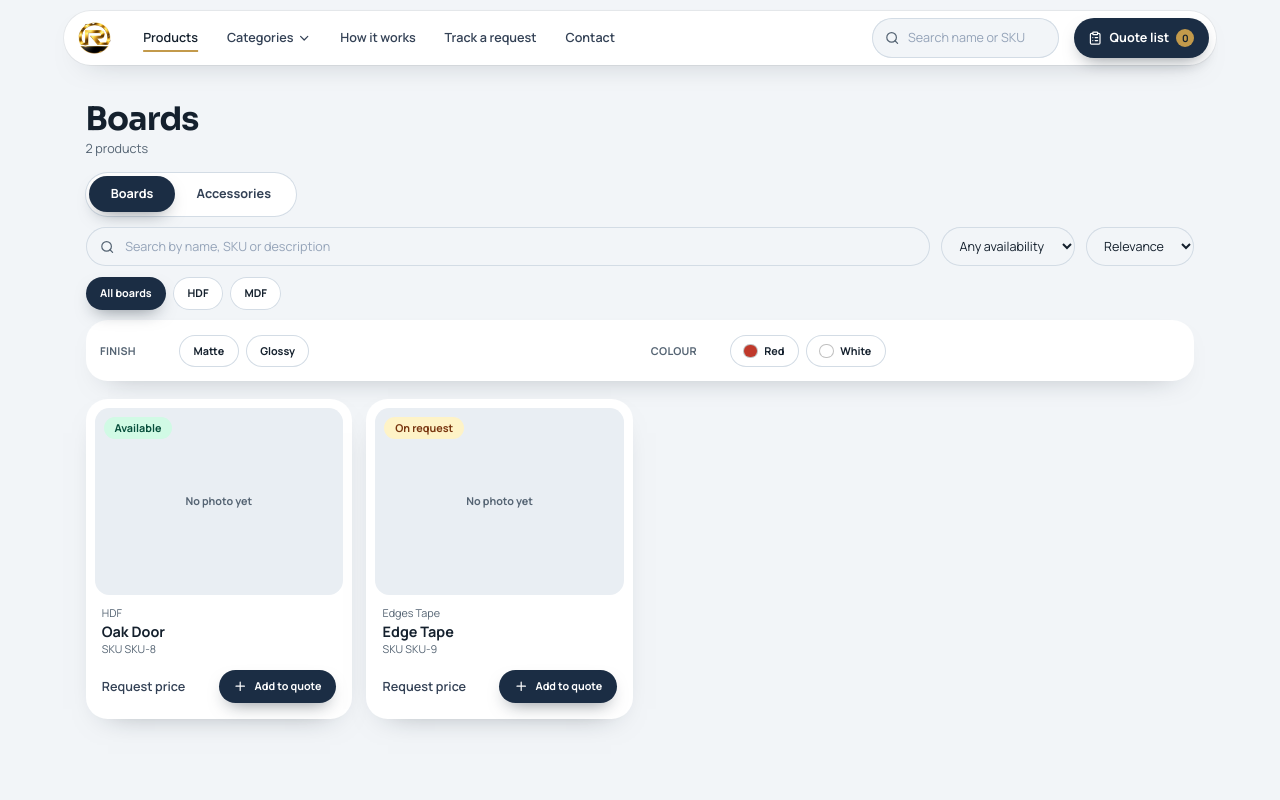
adding a product from the catalogue updates the quote list count and persists it
This screenshot has width=1280, height=800.
Click the button "Add to quote" below "SKU-8": coordinates (277, 687) left=219, top=670, right=336, bottom=703
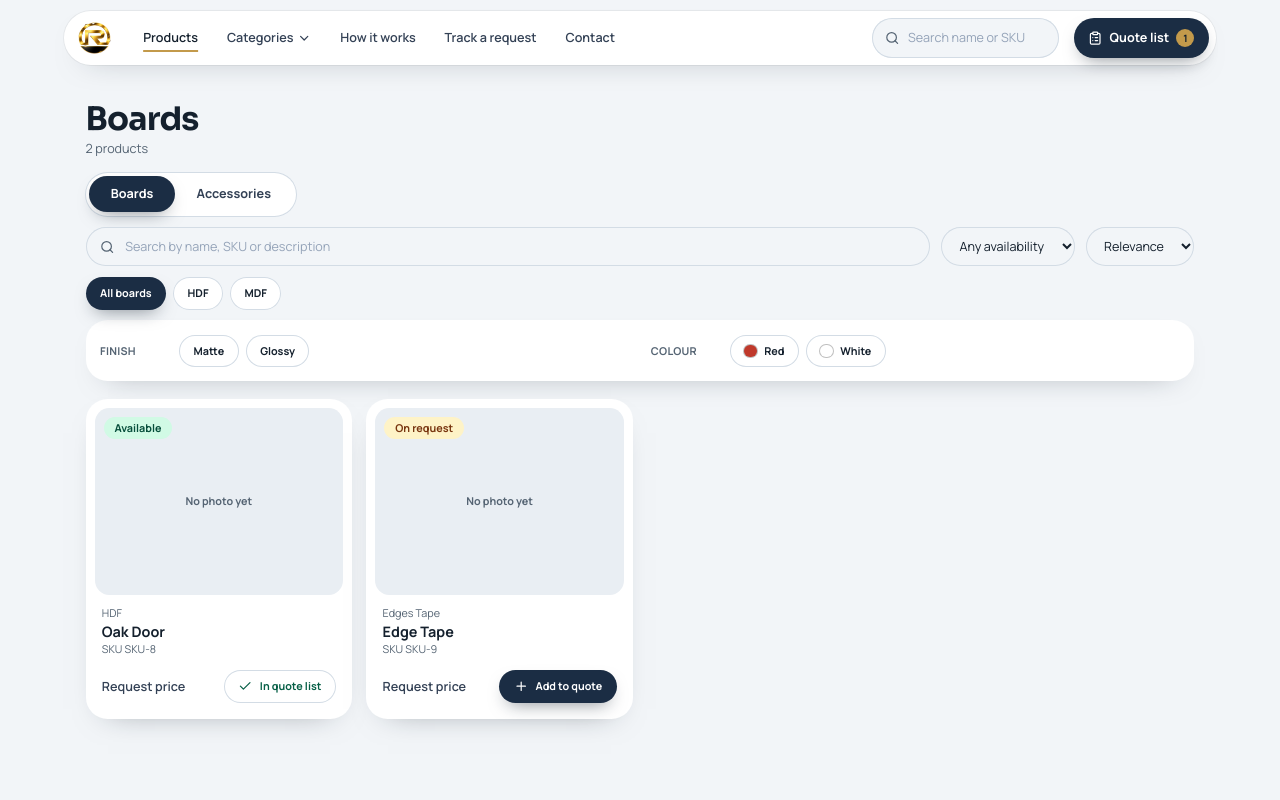
Check: the link with aria-label "quote list, 1 item" is shown, box left=1074, top=18, right=1209, bottom=58
